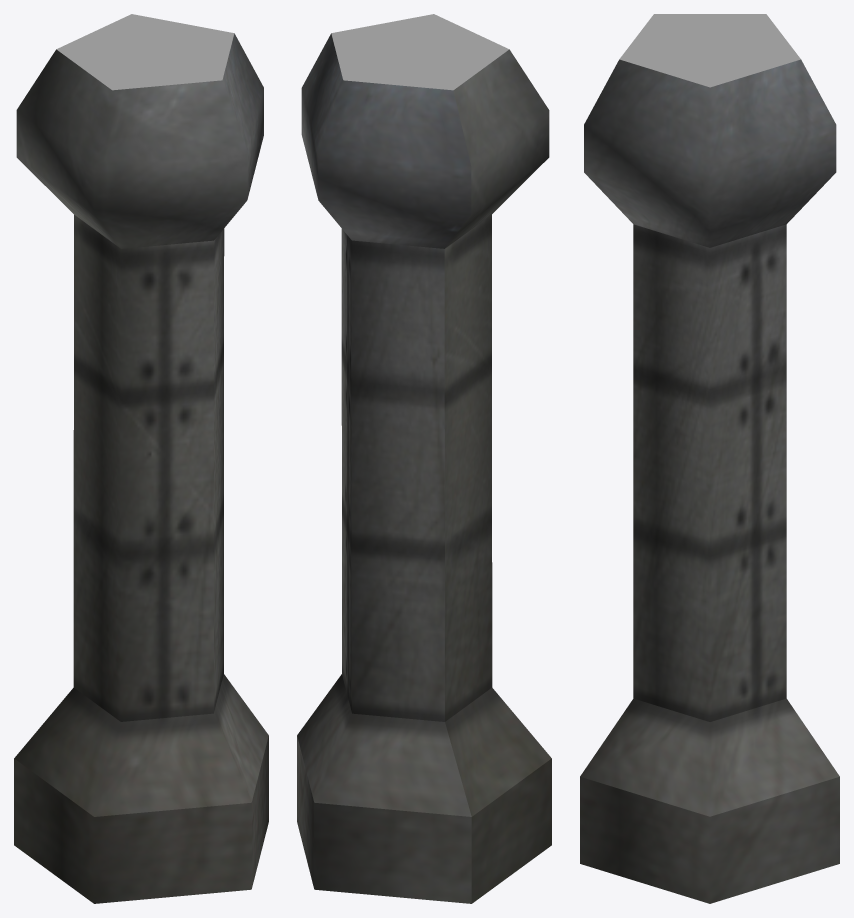
The model's file is Column.fbx.
The picture shows the model from 3 angles, left to right: view 1: azimuth 30°, elevation 25°; view 2: azimuth 150°, elevation 25°; view 3: azimuth 270°, elevation 25°; orthographic projection.
Parts seen in each view (by area): view 1: Column; view 2: Column; view 3: Column.
Part boxes in pixels (left/top/right/bottom): Column: left=14, top=14, right=268, bottom=903; Column: left=297, top=14, right=551, bottom=903; Column: left=580, top=14, right=839, bottom=903.
Size of the model in its own units: 9.39 by 33.31 by 9.81.
2 materials, 1 textured.
